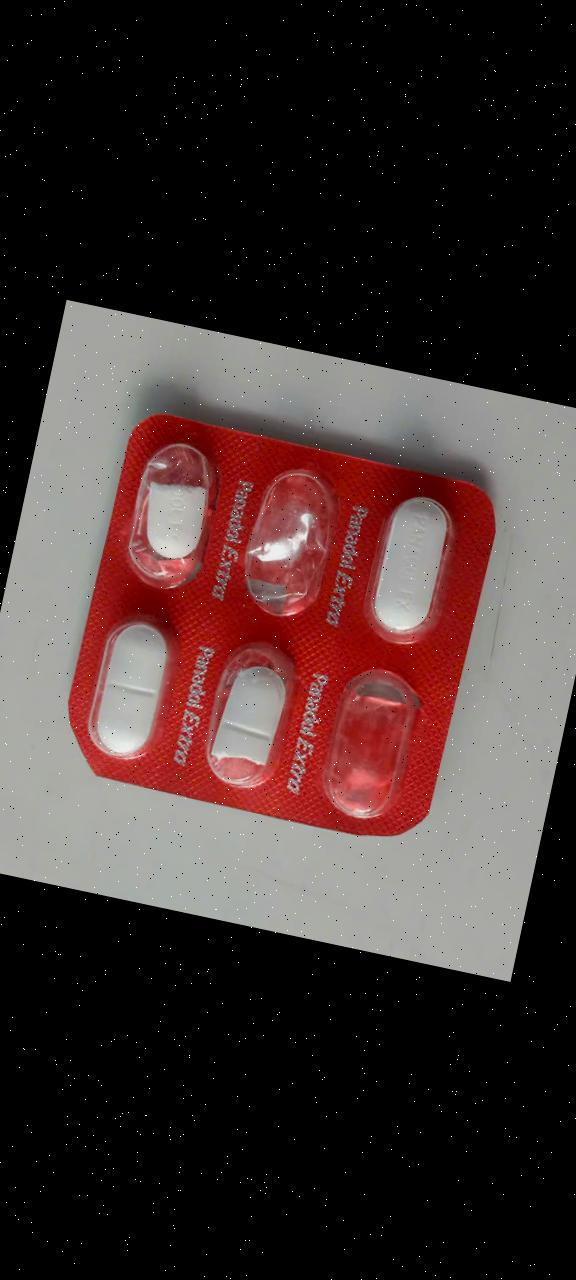Empty: (237, 458, 345, 622), (317, 659, 425, 823)
Full: (77, 603, 185, 767), (356, 485, 464, 649)
Partial: (195, 631, 303, 795), (116, 430, 224, 594)
